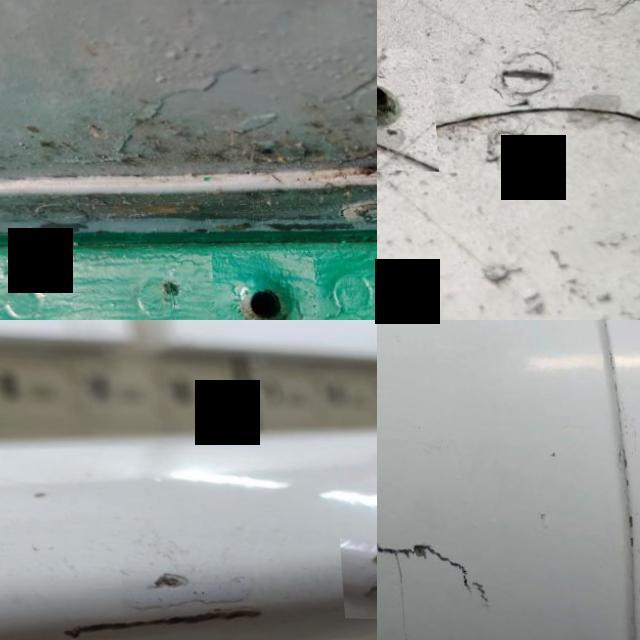Crack: (25, 541, 280, 640), (336, 533, 377, 618)
Missing_Fastener: (206, 249, 314, 320), (377, 44, 432, 169)
